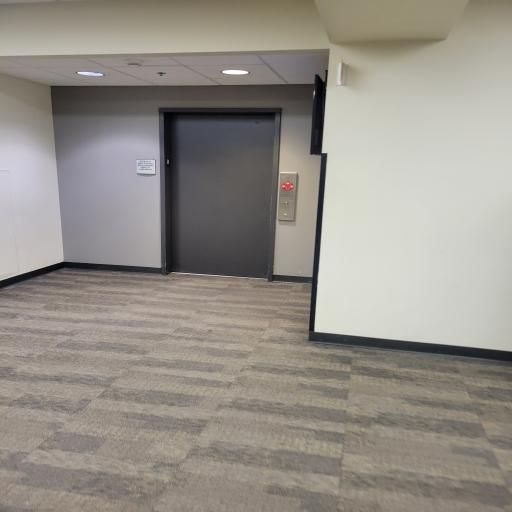elevator buttons: (272, 170, 298, 224)
elevator doors: (156, 108, 280, 280)
fire alarm: (122, 56, 144, 74)
water sprinkler: (152, 70, 168, 80)
